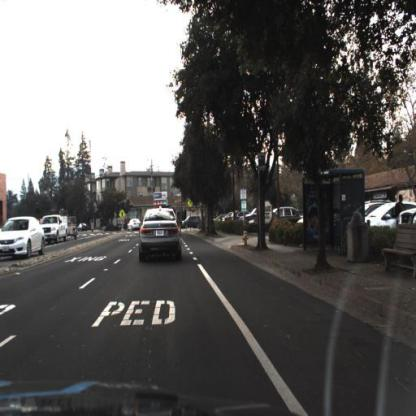car: (138, 201, 185, 263), (359, 199, 416, 245), (2, 213, 46, 264), (39, 213, 69, 249), (272, 199, 302, 229), (181, 208, 203, 234), (126, 212, 144, 239), (246, 203, 262, 230), (127, 212, 142, 235), (80, 221, 90, 237), (78, 222, 90, 235)
pedestrian: (398, 194, 406, 238)
